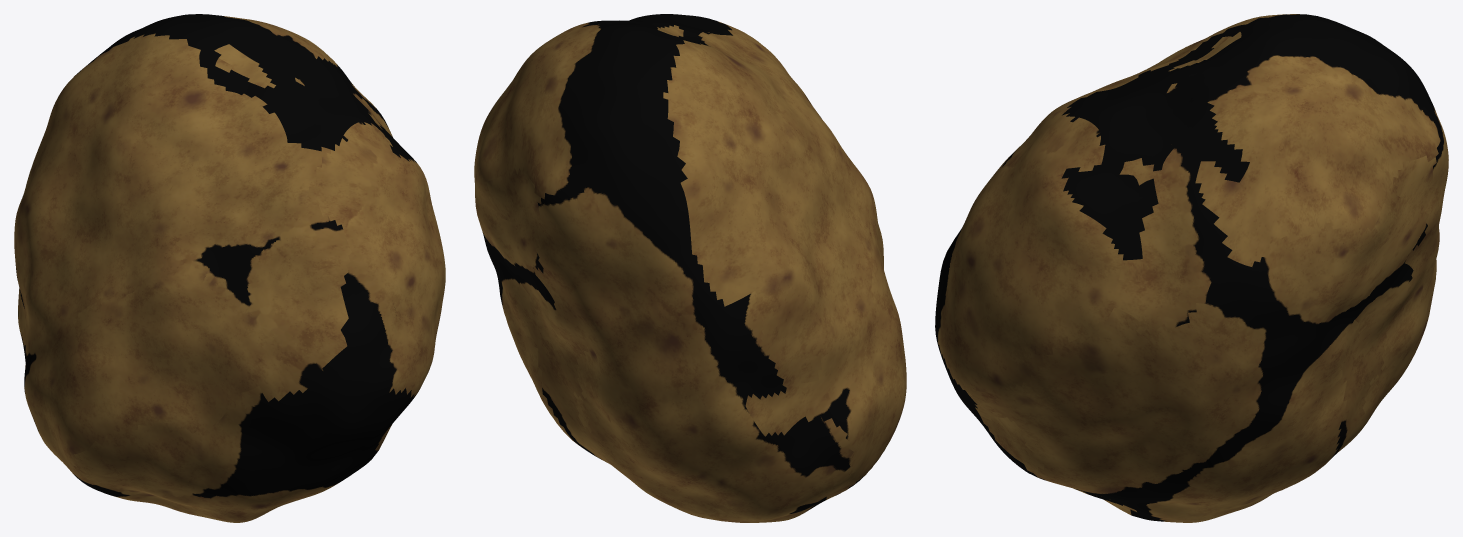
3 views of the same model, side by side, from view 1: azimuth 30°, elevation 25°; view 2: azimuth 150°, elevation 25°; view 3: azimuth 270°, elevation 25° (orthographic). The views are drawn at different scales.
Parts seen in each view (by area): view 1: original_ico.016; view 2: original_ico.016; view 3: original_ico.016.
Boxes of the visible parts, x1=… form: original_ico.016: x1=14, y1=14, x2=445, y2=522; original_ico.016: x1=474, y1=14, x2=906, y2=522; original_ico.016: x1=935, y1=14, x2=1448, y2=522.
Size of the model in its own units: 3.17 by 3.79 by 3.49.
